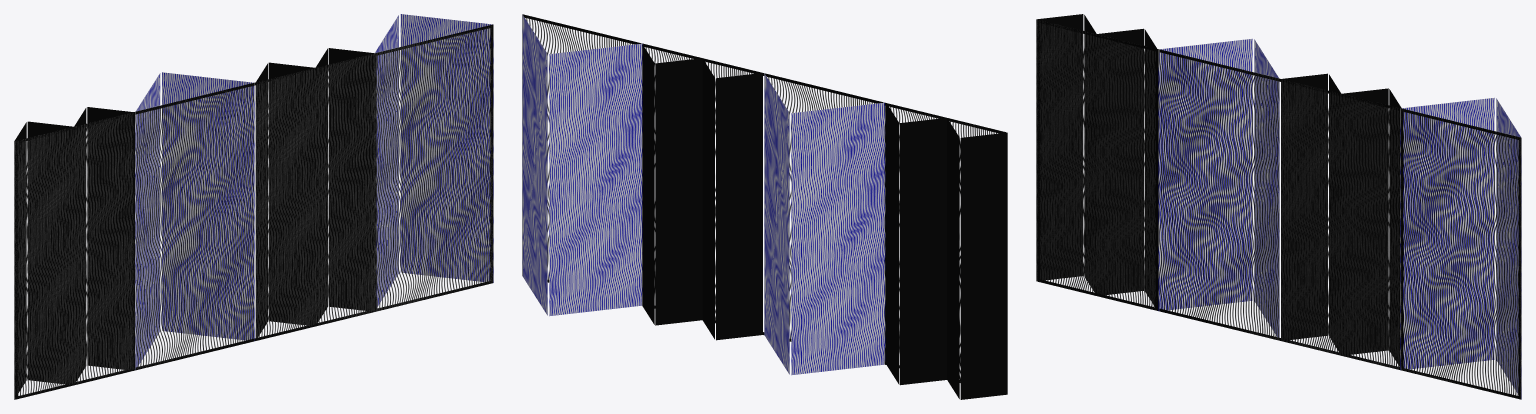
3 renders of one model, left to right at view 1: azimuth 30°, elevation 25°; view 2: azimuth 150°, elevation 25°; view 3: azimuth 330°, elevation 25°, orthographic.
Parts seen in each view (by area): view 1: fins 11 15 26 A.002, fins 11 15 26 A.001, larger panels.002, larger panels.001, fins 11 15 26 A.007, fins 11 15 26 A, frame.001; view 2: fins 11 15 26 A.001, fins 11 15 26 A.002, larger panels.002, larger panels.001, frame.001, fins 11 15 26 A, fins 11 15 26 A.007; view 3: fins 11 15 26 A.002, fins 11 15 26 A.001, larger panels.002, larger panels.001, fins 11 15 26 A, fins 11 15 26 A.007, frame.001.
Part boxes in pixels (box(x1,y1,x2,y2)): fins 11 15 26 A.002: box(255, 48, 375, 337); fins 11 15 26 A.001: box(14, 107, 133, 399); larger panels.002: box(135, 72, 254, 369); larger panels.001: box(375, 14, 493, 306); fins 11 15 26 A.007: box(373, 26, 492, 311); fins 11 15 26 A: box(134, 84, 253, 369); frame.001: box(15, 24, 493, 399); fins 11 15 26 A.001: box(886, 103, 1007, 399); fins 11 15 26 A.002: box(642, 44, 762, 340); larger panels.002: box(764, 73, 885, 375); larger panels.001: box(522, 15, 642, 316); frame.001: box(522, 14, 1005, 382); fins 11 15 26 A: box(768, 77, 885, 361); fins 11 15 26 A.007: box(526, 17, 632, 281); fins 11 15 26 A.002: box(1281, 73, 1401, 369); fins 11 15 26 A.001: box(1036, 14, 1156, 310); larger panels.002: box(1158, 38, 1279, 337); larger panels.001: box(1400, 97, 1521, 399); fins 11 15 26 A: box(1159, 52, 1279, 340); fins 11 15 26 A.007: box(1400, 109, 1521, 399); frame.001: box(1037, 20, 1521, 399).
Size of the model in its own units: 173 by 89 by 21.21.
15 materials, 12 textured.
